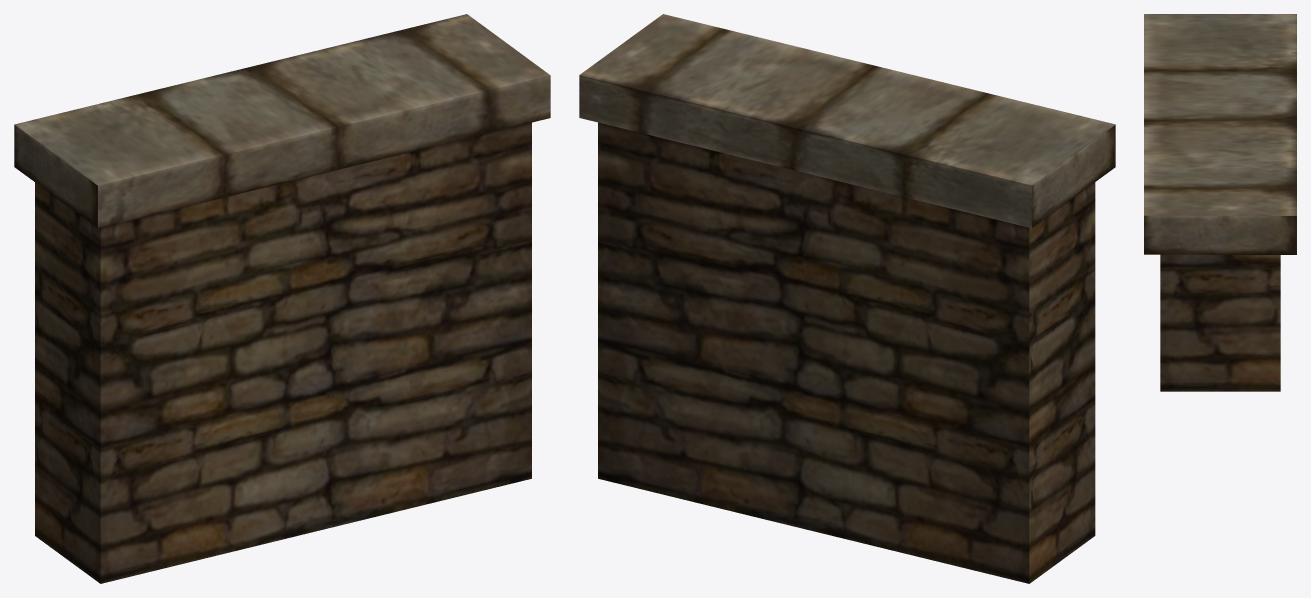
File: planter_straight.fbx
3 views of the same model, side by side, from view 1: azimuth 30°, elevation 25°; view 2: azimuth 150°, elevation 25°; view 3: azimuth 270°, elevation 25° (orthographic). The views are drawn at different scales.
Parts seen in each view (by area): view 1: lod_high; view 2: lod_high; view 3: lod_high.
Boxes of the visible parts, x1,y1,x2,y2 form: lod_high: [14, 14, 550, 583]; lod_high: [579, 14, 1115, 583]; lod_high: [1144, 14, 1296, 391].
Size of the model in its own units: 389 by 334 by 124.
1 material, 1 textured.
